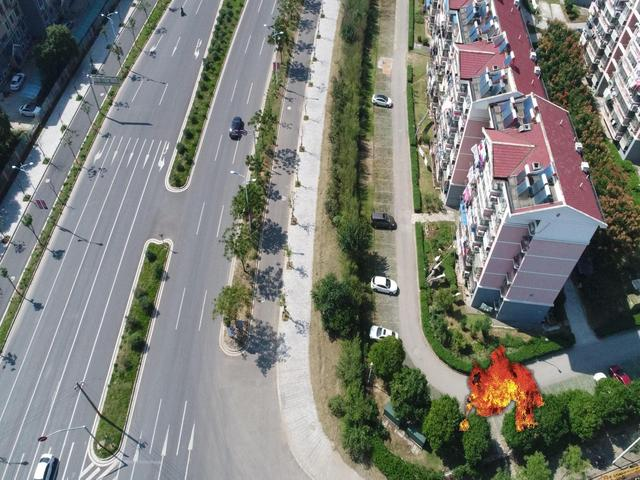fire: (457, 343, 546, 434)
